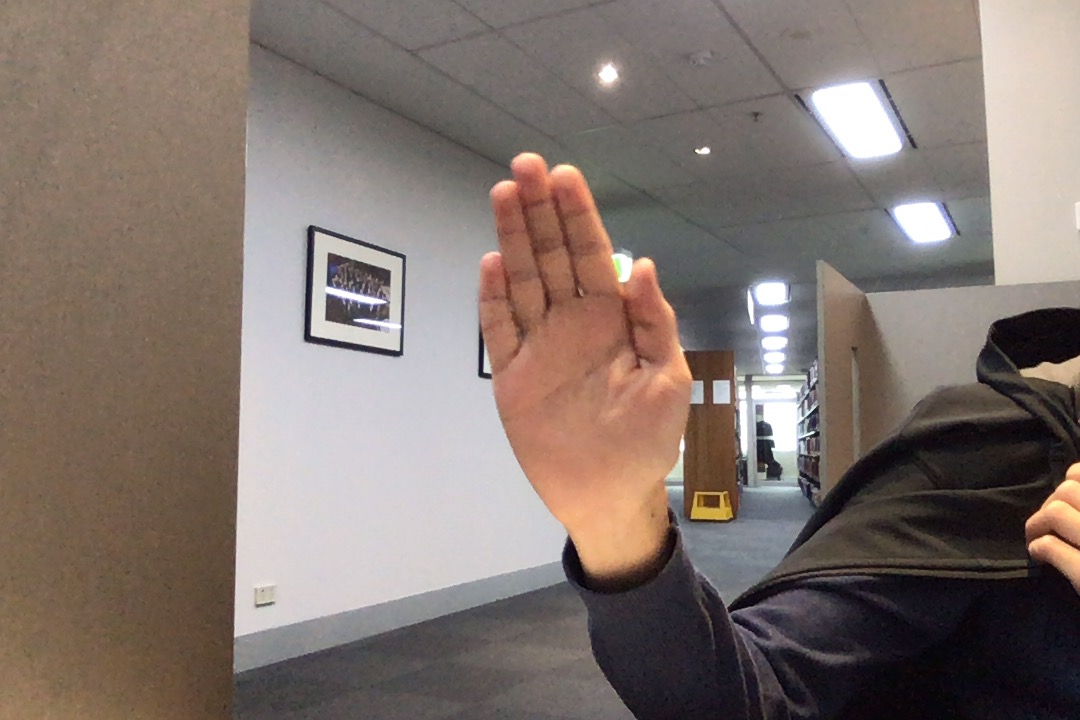palmhand: (457, 139, 701, 523)
